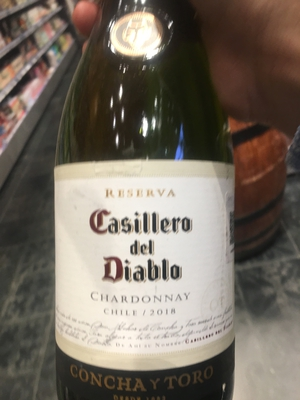casillero del diablo chardonnay: (47, 9, 241, 400)
